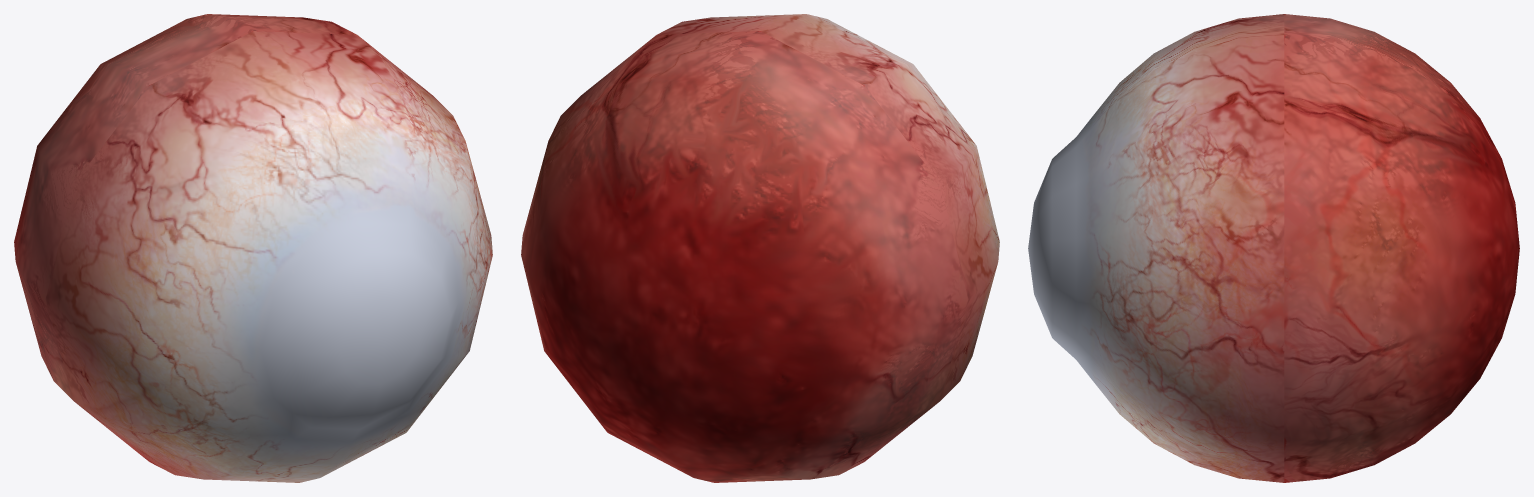
The picture shows the model from 3 angles, left to right: view 1: azimuth 30°, elevation 25°; view 2: azimuth 150°, elevation 25°; view 3: azimuth 270°, elevation 25°; orthographic projection.
Parts seen in each view (by area): view 1: Occhio; view 2: Occhio; view 3: Occhio.
Part boxes in pixels (x1,y1,x2,y2): Occhio: [14, 14, 492, 482]; Occhio: [521, 14, 999, 482]; Occhio: [1028, 14, 1519, 482].
Bounding box in the file's own units: 1.13 × 1.13 × 1.18.
Materials: 2 (2 with a texture image).
